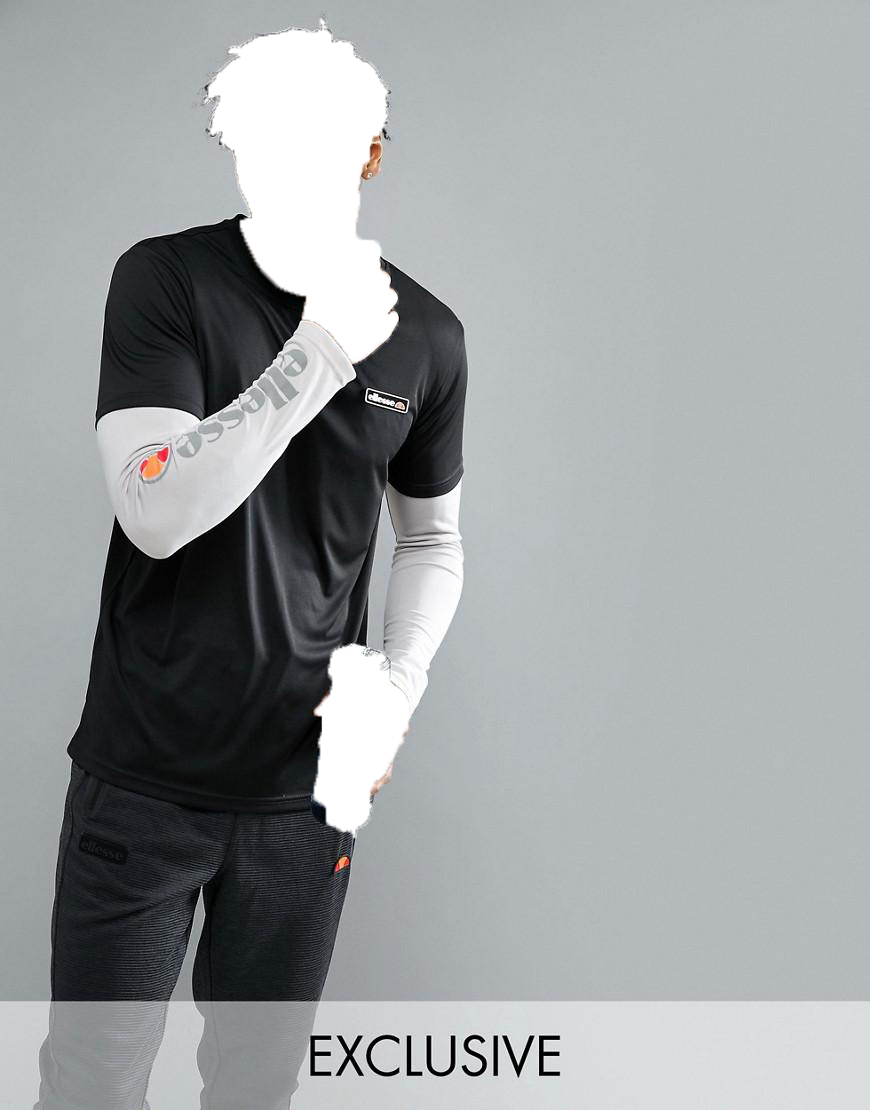teeshirt: (90, 212, 479, 827)
